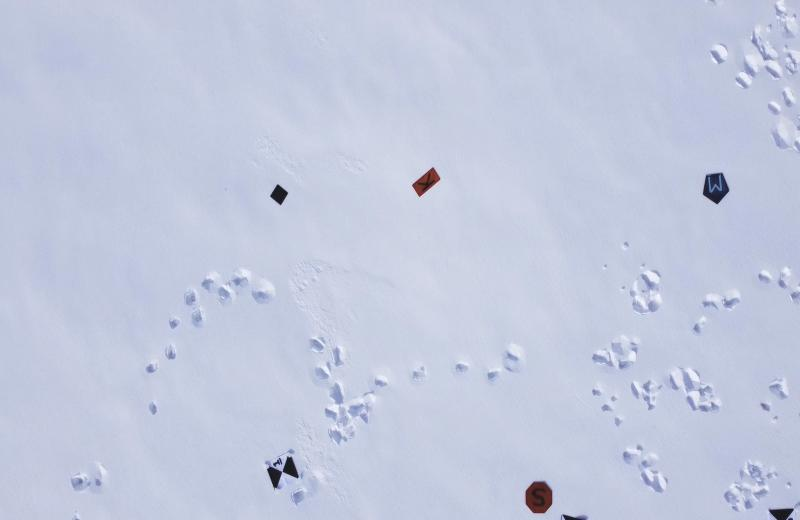Octagon: (522, 478, 556, 516)
Pentagon: (699, 167, 733, 209)
Rectangle: (407, 164, 443, 200)
Square: (266, 180, 290, 207)
